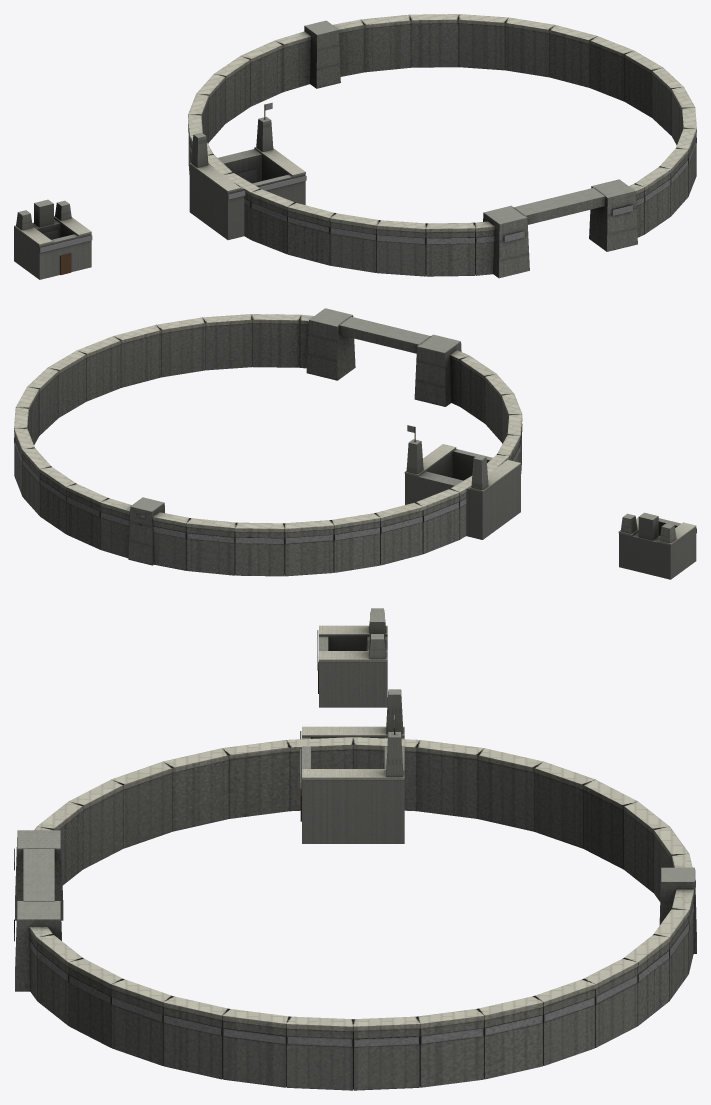
Rendered from shared-kingdoms-americas.glb.
3 renders of one model, top to bottom at view 1: azimuth 30°, elevation 25°; view 2: azimuth 150°, elevation 25°; view 3: azimuth 270°, elevation 25°, orthographic. The views are drawn at different scales.
Parts seen in each view (by area): view 1: LOD0.002, LOD0.001, LOD0; view 2: LOD0.002, LOD0.001, LOD0; view 3: LOD0.002, LOD0.001, LOD0.
Part boxes in pixels (x1,y1,x2,y2): LOD0.002: (188,14,696,278); LOD0.001: (189,102,306,239); LOD0: (14,199,92,279); LOD0.002: (14,308,522,576); LOD0.001: (404,425,521,539); LOD0: (618,512,696,579); LOD0.002: (14,737,696,1090); LOD0.001: (300,689,404,843); LOD0: (317,608,387,707).
Size of what is drawn, in the model's own units: 9.8 by 1.37 by 6.78.
Materials: 2 (2 with a texture image).
